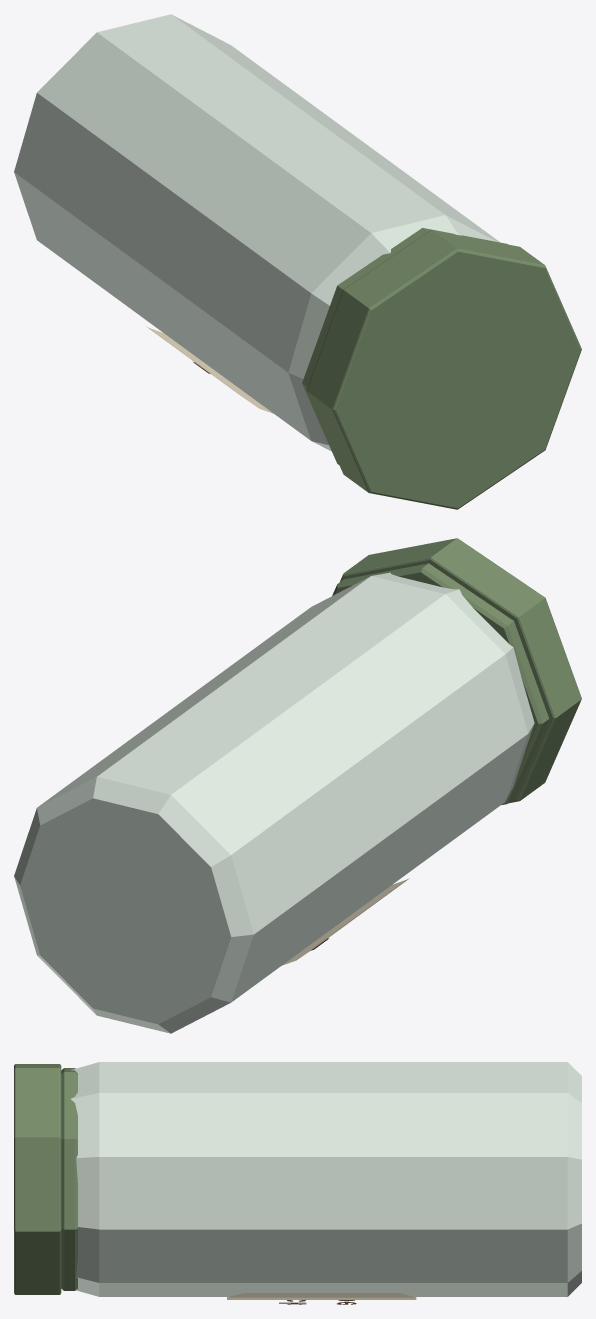
The model's file is black_pepper.glb.
3 renders of one model, top to bottom at view 1: azimuth 30°, elevation 25°; view 2: azimuth 150°, elevation 25°; view 3: azimuth 270°, elevation 25°, orthographic. The views are drawn at different scales.
Visible parts, largest first — view 1: black_pepper; view 2: black_pepper; view 3: black_pepper.
Boxes of the visible parts, <box> form: black_pepper: <box>14,14,581,509</box>; black_pepper: <box>14,538,581,1033</box>; black_pepper: <box>14,1062,581,1304</box>.
Bounding box in the file's own units: 0.052 × 0.0525 × 0.12.
